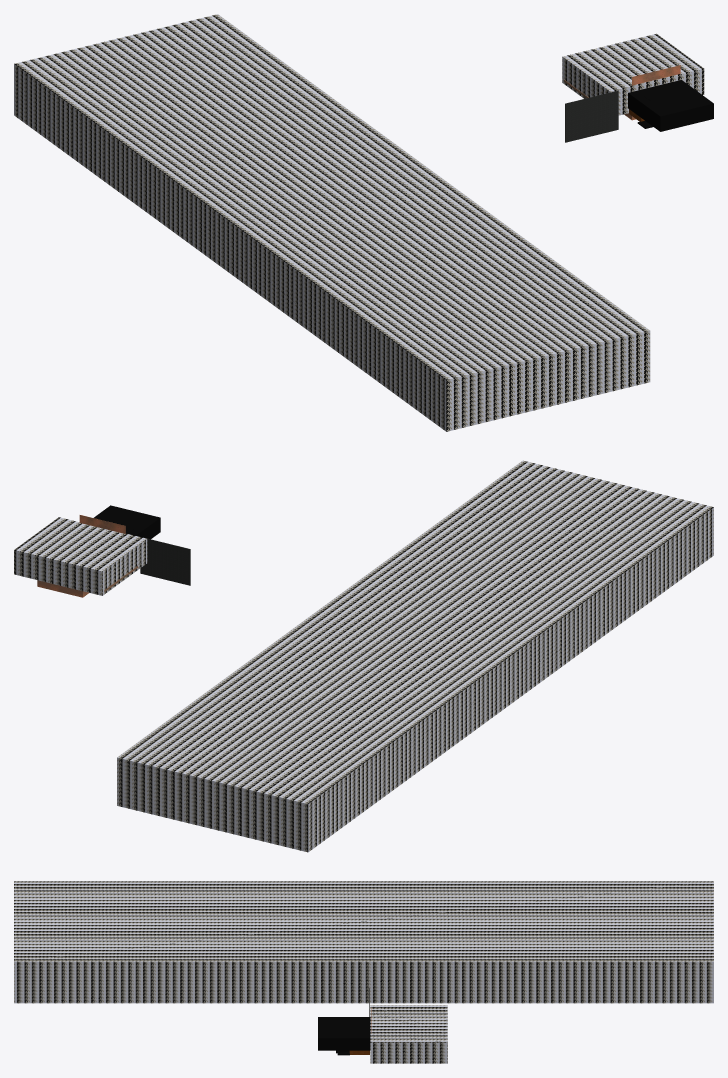
File: Smash_brush.glb
3 views of the same model, one above another, from view 1: azimuth 30°, elevation 25°; view 2: azimuth 150°, elevation 25°; view 3: azimuth 270°, elevation 25° (orthographic). The views are drawn at different scales.
Visible parts, largest first — view 1: Smash; view 2: Smash; view 3: Smash.
Boxes of the visible parts, bbox=[...] form: Smash: bbox=[14, 14, 713, 431]; Smash: bbox=[14, 460, 713, 852]; Smash: bbox=[14, 881, 713, 1063].
Size of the model in its own units: 15421 by 2898 by 24158.
Materials: 16 (16 with a texture image).
